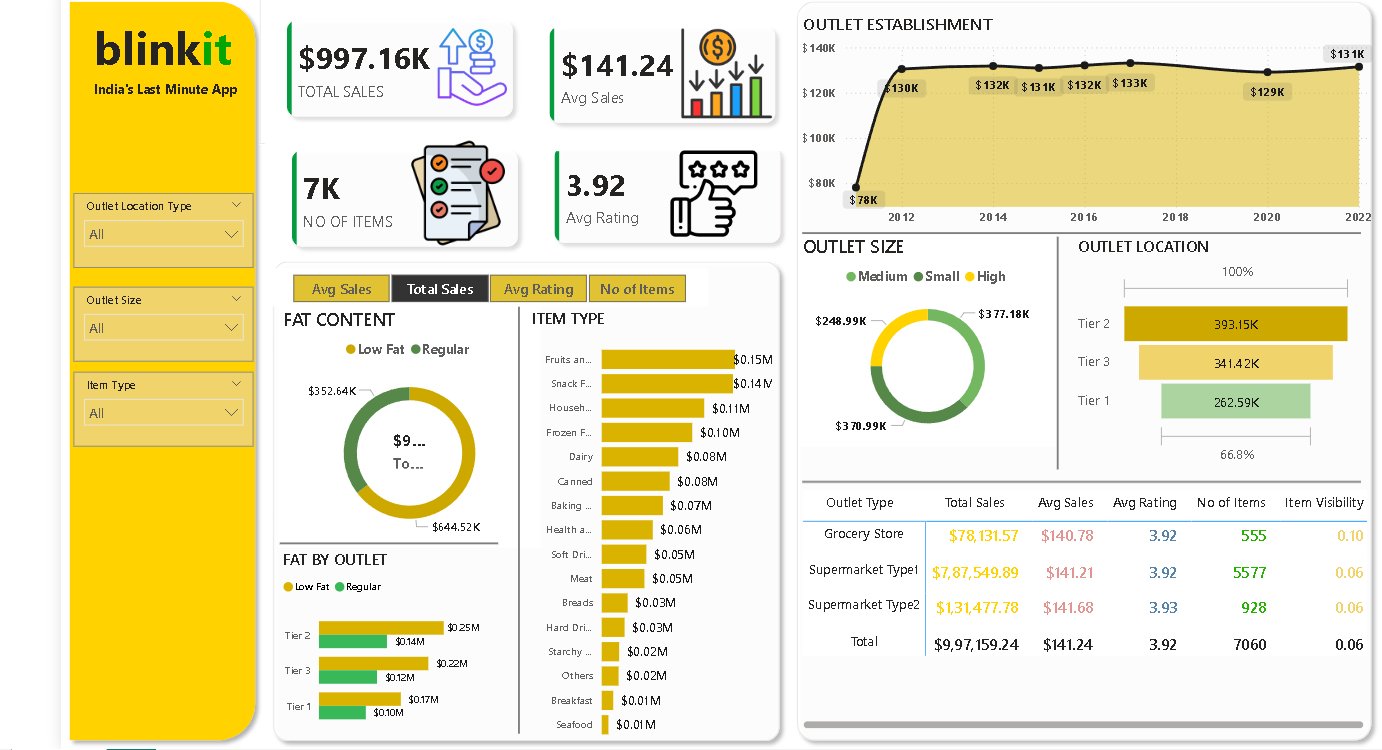

The dashboard page shown, as its layout file describes it:
{"tool":"powerbi","page":{"name":"Page 1","canvas":[1400,800],"ordinal":0},"visuals":[{"type":"shape","box":[0,0,214.6,800],"z":0},{"type":"textbox","box":[30,19.5,169.6,85.5],"z":1000},{"type":"textbox","box":[30,87.1,165.1,37.5],"z":2000},{"type":"cardVisual","fields":{"Data":["BlinkIT Grocery Data.Total Sales"]},"box":[210.1,0,297.2,160.6],"z":3000},{"type":"cardVisual","fields":{"Data":["BlinkIT Grocery Data.No of Items"]},"box":[216.1,138.1,297,160.6],"z":4000},{"type":"cardVisual","fields":{"Data":["BlinkIT Grocery Data.Avg Rating"]},"box":[493.8,133.6,297.2,160.6],"z":5000},{"type":"cardVisual","fields":{"Data":["BlinkIT Grocery Data.Avg Sales"]},"box":[487.8,6,297.2,160.6],"z":6000},{"type":"shape","box":[216.1,274.7,553.8,525.3],"z":7000},{"type":"donutChart","title":"FAT CONTENT","fields":{"Y":["BlinkIT Grocery Data.Total Sales"],"Category":["BlinkIT Grocery Data.Item Fat Content"]},"box":[229.6,331.7,277.7,255.1],"z":8000},{"type":"slicer","fields":{"Values":["Metrics.Metrics"]},"box":[219.1,291.2,465.3,40.5],"z":9000},{"type":"cardVisual","fields":{"Data":["BlinkIT Grocery Data.Total Sales"]},"box":[322.7,448.8,96.1,72],"z":10000},{"type":"clusteredBarChart","title":"FAT BY OUTLET","fields":{"Y":["BlinkIT Grocery Data.Total Sales"],"Category":["BlinkIT Grocery Data.Outlet Location Type"],"Series":["BlinkIT Grocery Data.Item Fat Content"]},"box":[229.6,586.8,220.6,202.6],"z":11000},{"type":"barChart","title":"ITEM TYPE","fields":{"Y":["BlinkIT Grocery Data.Total Sales"],"Category":["BlinkIT Grocery Data.Item Type"]},"box":[493.8,331.7,264.2,468.3],"z":12000},{"type":"shape","box":[769.9,0,625.9,800],"z":13000},{"type":"lineChart","title":"OUTLET ESTABLISHMENT","fields":{"Category":["BlinkIT Grocery Data.Outlet Establishment Year"],"Y":["BlinkIT Grocery Data.Total Sales"]},"box":[780.4,19.5,612.4,235.6],"z":14000},{"type":"donutChart","title":"OUTLET SIZE","fields":{"Y":["BlinkIT Grocery Data.Total Sales"],"Category":["BlinkIT Grocery Data.Outlet Size"]},"box":[780.4,255.1,274,225],"z":15000},{"type":"funnel","title":"OUTLET LOCATION","fields":{"Y":["Sum(BlinkIT Grocery Data.Sales)"],"Category":["BlinkIT Grocery Data.Outlet Location Type"]},"box":[1071.6,255.1,300.2,249.1],"z":16000},{"type":"pivotTable","fields":{"Rows":["BlinkIT Grocery Data.Outlet Type"],"Values":["BlinkIT Grocery Data.Total Sales","BlinkIT Grocery Data.Avg Sales","BlinkIT Grocery Data.Avg Rating","BlinkIT Grocery Data.No of Items","Avg(BlinkIT Grocery Data.Item Visibility)"]},"box":[780.4,520.8,606.3,262.7],"z":17000},{"type":"slicer","fields":{"Values":["BlinkIT Grocery Data.Outlet Location Type"]},"box":[13.5,211.6,190.6,79.5],"z":18000},{"type":"slicer","fields":{"Values":["BlinkIT Grocery Data.Outlet Size"]},"box":[13.5,310.7,190.6,79.5],"z":19000},{"type":"slicer","fields":{"Values":["BlinkIT Grocery Data.Item Type"]},"box":[13.5,400.7,190.6,79.5],"z":20000},{"type":"shape","box":[231.1,556.8,231.1,51],"z":21000},{"type":"shape","box":[369.2,331.7,231.1,451.8],"z":22000},{"type":"shape","box":[785,214.6,591.3,79.5],"z":23000},{"type":"shape","box":[939.5,258.1,231.1,246.1],"z":24000},{"type":"shape","box":[785,477.3,591.3,79.5],"z":25000},{"type":"image","box":[375.2,37.5,118.6,82.5],"z":26000},{"type":"image","box":[639.4,37.5,130.6,96.1],"z":27000},{"type":"image","box":[355.7,156.1,129.1,111.1],"z":28000},{"type":"image","box":[625.9,166.6,130.6,91.6],"z":29000}]}

Visuals, with their boxes on the page's 1400x800 design canvas (x1, y1, x2, y2). These are canvas units, not pixel positions in the 1382x750 screenshot, which may show the page scaled, cropped or inside an application window:
shape: <bbox>0, 0, 215, 800</bbox>
textbox: <bbox>30, 20, 200, 105</bbox>
textbox: <bbox>30, 87, 195, 125</bbox>
cardVisual - BlinkIT Grocery Data.Total Sales: <bbox>210, 0, 507, 161</bbox>
cardVisual - BlinkIT Grocery Data.No of Items: <bbox>216, 138, 513, 299</bbox>
cardVisual - BlinkIT Grocery Data.Avg Rating: <bbox>494, 134, 791, 294</bbox>
cardVisual - BlinkIT Grocery Data.Avg Sales: <bbox>488, 6, 785, 167</bbox>
shape: <bbox>216, 275, 770, 800</bbox>
"FAT CONTENT" donutChart: <bbox>230, 332, 507, 587</bbox>
slicer - Metrics.Metrics: <bbox>219, 291, 684, 332</bbox>
cardVisual - BlinkIT Grocery Data.Total Sales: <bbox>323, 449, 419, 521</bbox>
"FAT BY OUTLET" clusteredBarChart: <bbox>230, 587, 450, 789</bbox>
"ITEM TYPE" barChart: <bbox>494, 332, 758, 800</bbox>
shape: <bbox>770, 0, 1396, 800</bbox>
"OUTLET ESTABLISHMENT" lineChart: <bbox>780, 20, 1393, 255</bbox>
"OUTLET SIZE" donutChart: <bbox>780, 255, 1054, 480</bbox>
"OUTLET LOCATION" funnel: <bbox>1072, 255, 1372, 504</bbox>
pivotTable - BlinkIT Grocery Data.Outlet Type x BlinkIT Grocery Data.Total Sales: <bbox>780, 521, 1387, 784</bbox>
slicer - BlinkIT Grocery Data.Outlet Location Type: <bbox>14, 212, 204, 291</bbox>
slicer - BlinkIT Grocery Data.Outlet Size: <bbox>14, 311, 204, 390</bbox>
slicer - BlinkIT Grocery Data.Item Type: <bbox>14, 401, 204, 480</bbox>
shape: <bbox>231, 557, 462, 608</bbox>
shape: <bbox>369, 332, 600, 784</bbox>
shape: <bbox>785, 215, 1376, 294</bbox>
shape: <bbox>940, 258, 1171, 504</bbox>
shape: <bbox>785, 477, 1376, 557</bbox>
image: <bbox>375, 38, 494, 120</bbox>
image: <bbox>639, 38, 770, 134</bbox>
image: <bbox>356, 156, 485, 267</bbox>
image: <bbox>626, 167, 756, 258</bbox>
